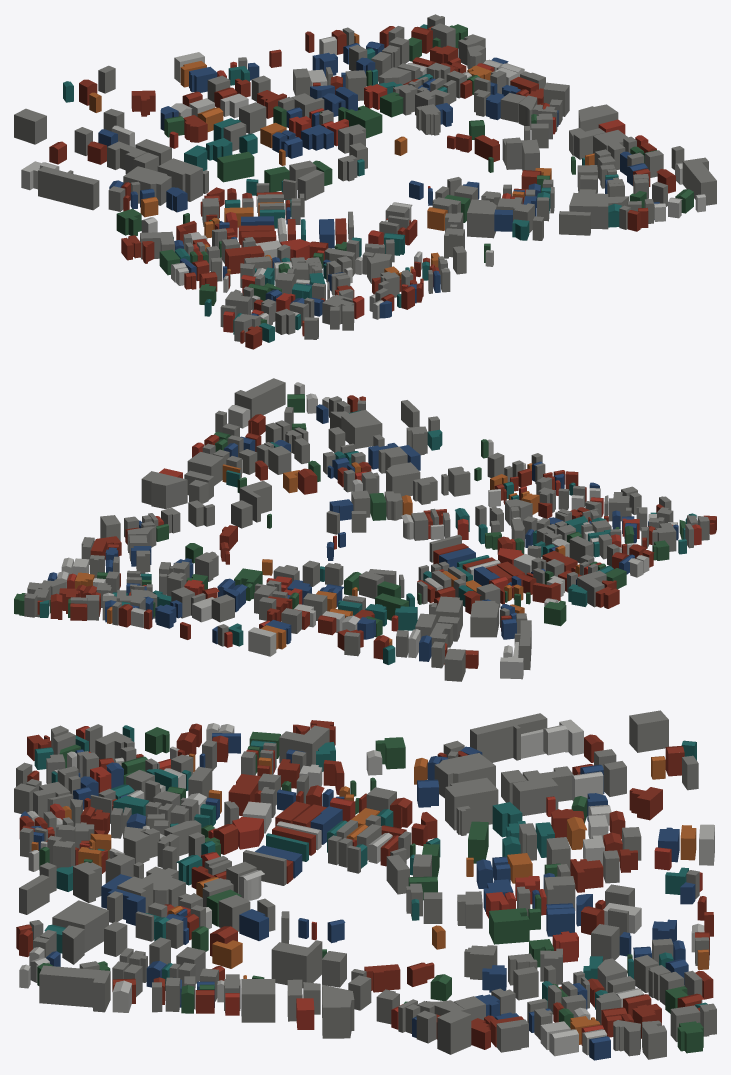
File: near-16-54720-29736.82228172.glb
The picture shows the model from 3 angles, top to bottom: view 1: azimuth 30°, elevation 25°; view 2: azimuth 150°, elevation 25°; view 3: azimuth 270°, elevation 25°; orthographic projection. The views are drawn at different scales.
Size of the model in its own units: 606 by 77.21 by 596.
